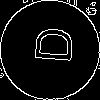D: (25, 25, 74, 64)
